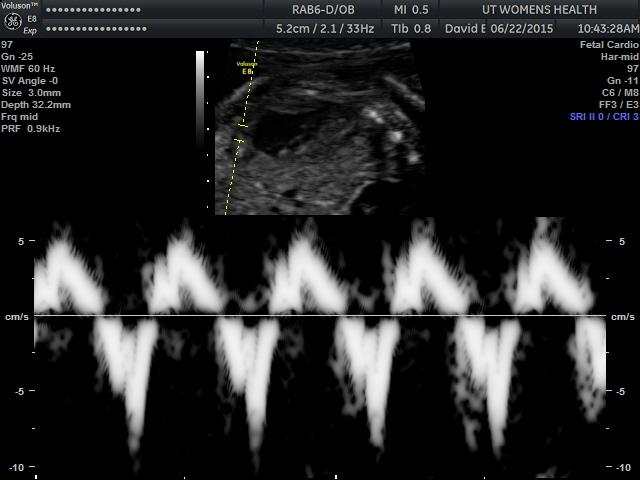Ultrasound-Waves: (36, 217, 603, 469)
